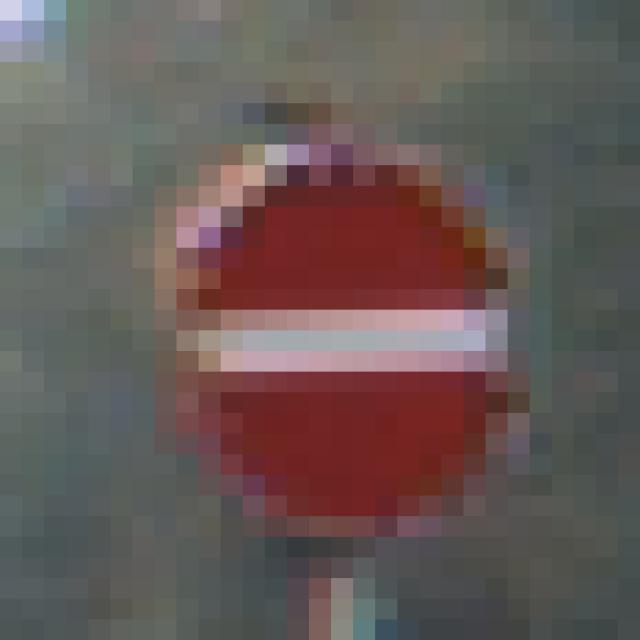No Entry: (134, 104, 531, 517)
